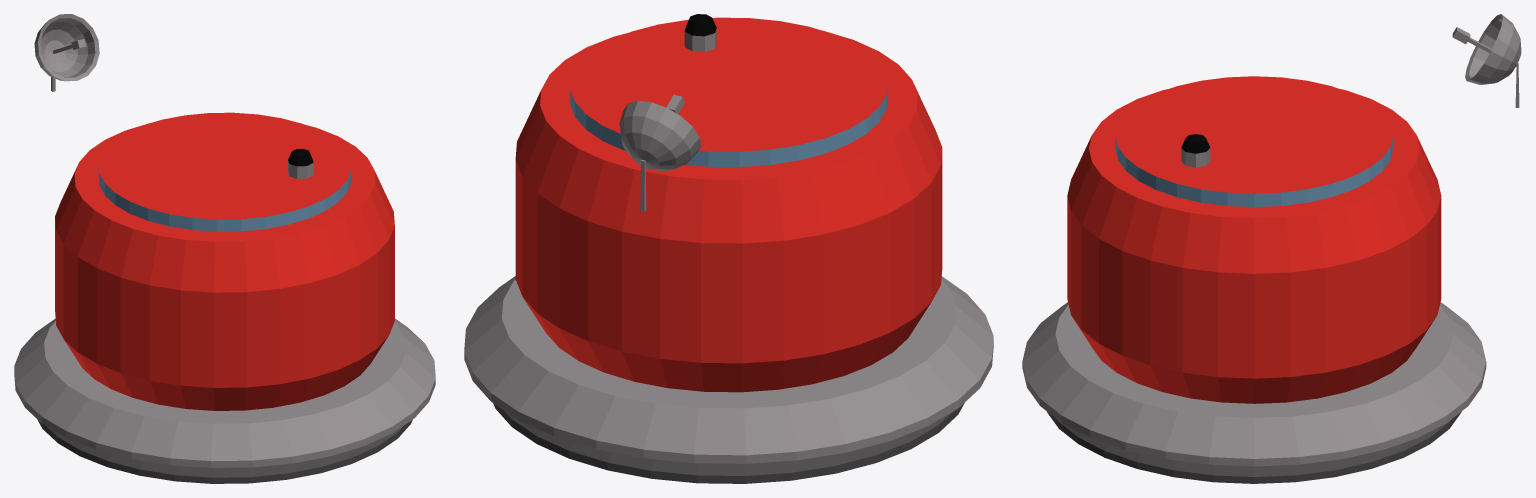
Rendered from vacuum.fbx.
The picture shows the model from 3 angles, left to right: view 1: azimuth 30°, elevation 25°; view 2: azimuth 150°, elevation 25°; view 3: azimuth 270°, elevation 25°; orthographic projection. The views are drawn at different scales.
Visible parts, largest first — view 1: corpus, antena; view 2: corpus, antena; view 3: corpus, antena.
Part boxes in pixels (bbox=[...]): corpus: bbox=[14, 112, 435, 483]; antena: bbox=[34, 14, 99, 91]; corpus: bbox=[464, 14, 993, 483]; antena: bbox=[619, 94, 701, 211]; corpus: bbox=[1022, 76, 1486, 483]; antena: bbox=[1452, 14, 1521, 107].
Bounding box in the file's own units: 136 × 113 × 147.
